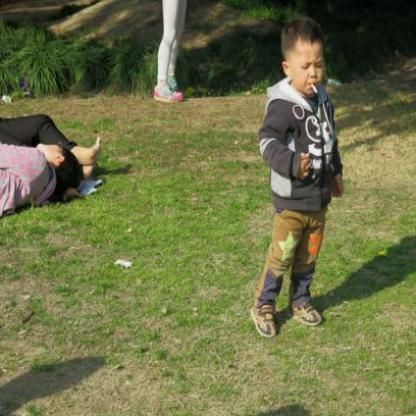cigarette: (310, 82, 319, 96)
person: (258, 18, 346, 344)
